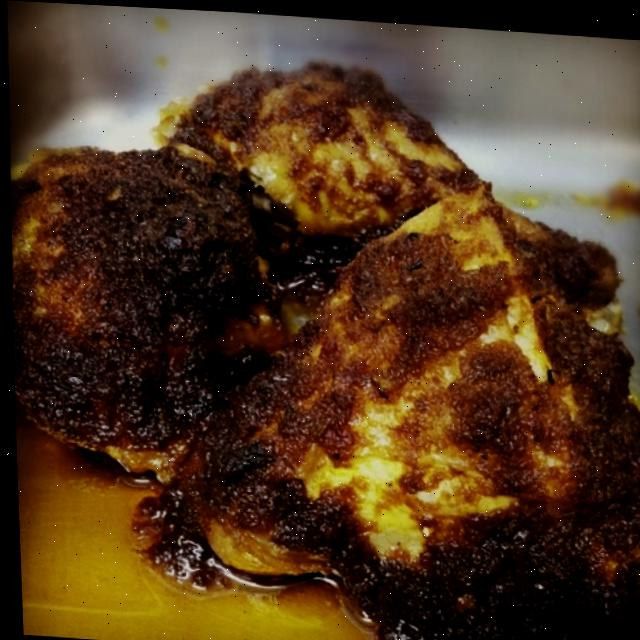鸡肉料理 含炸鸡: (25, 29, 640, 640)
